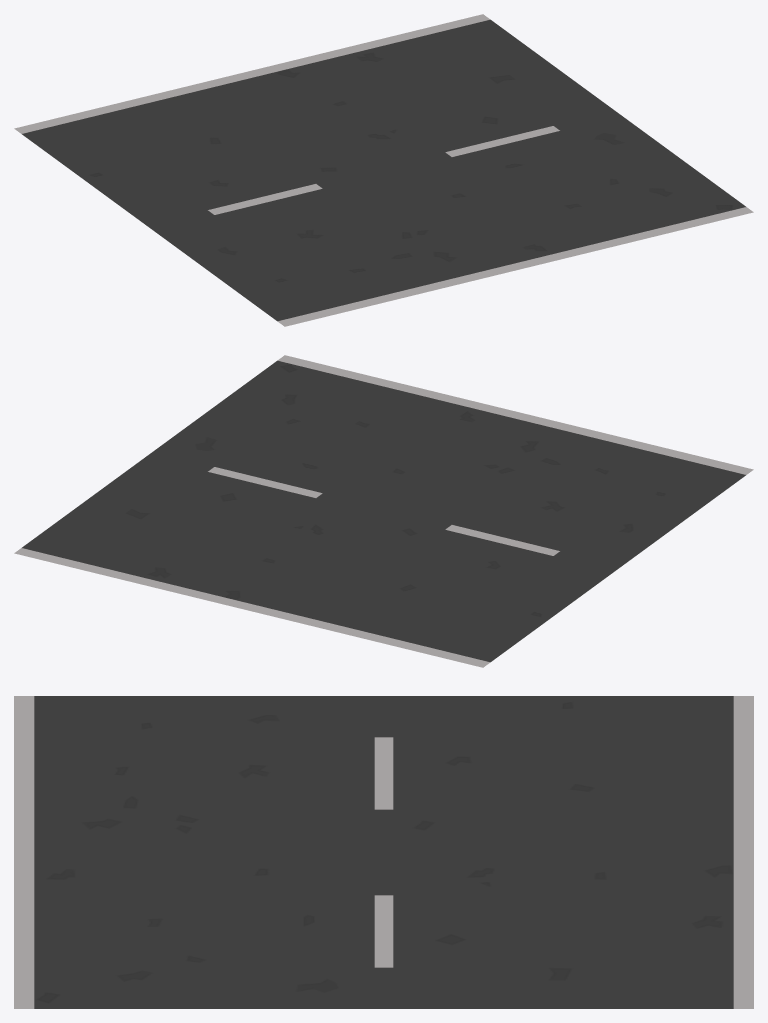
Rendered from SM_Gen_Env_Road_01.glb.
The picture shows the model from 3 angles, top to bottom: view 1: azimuth 30°, elevation 25°; view 2: azimuth 150°, elevation 25°; view 3: azimuth 270°, elevation 25°; orthographic projection. The views are drawn at different scales.
Visible parts, largest first — view 1: SM_Gen_Env_Road_012; view 2: SM_Gen_Env_Road_012; view 3: SM_Gen_Env_Road_012.
Part boxes in pixels (x1=…): SM_Gen_Env_Road_012: x1=14, y1=14, x2=753, y2=326; SM_Gen_Env_Road_012: x1=14, y1=355, x2=753, y2=667; SM_Gen_Env_Road_012: x1=14, y1=696, x2=753, y2=1008.
Size of the model in its own units: 10 by 1.07e-19 by 10.
Materials: 1 (1 with a texture image).
